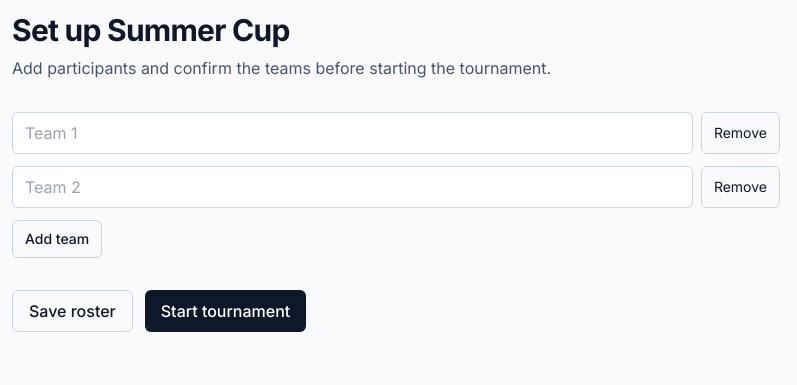
Test case: TournamentSetupForm › validates that team mode has two non-empty teams
Click the button "Start tournament". click: (226, 311)
box: left=145, top=290, right=306, bottom=332
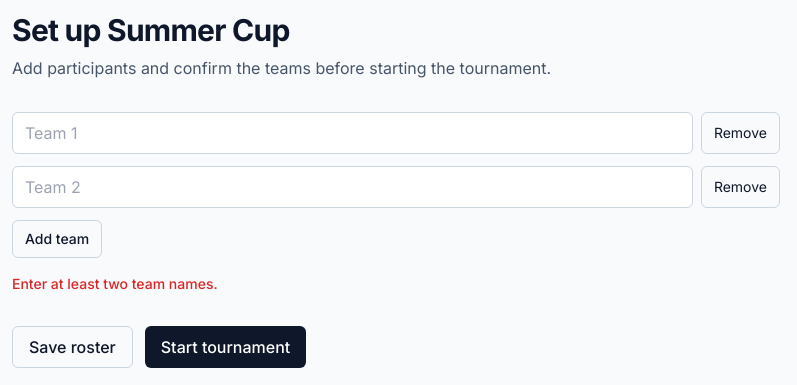
Now the text "Enter at least two team names." is shown, box left=12, top=275, right=218, bottom=292
